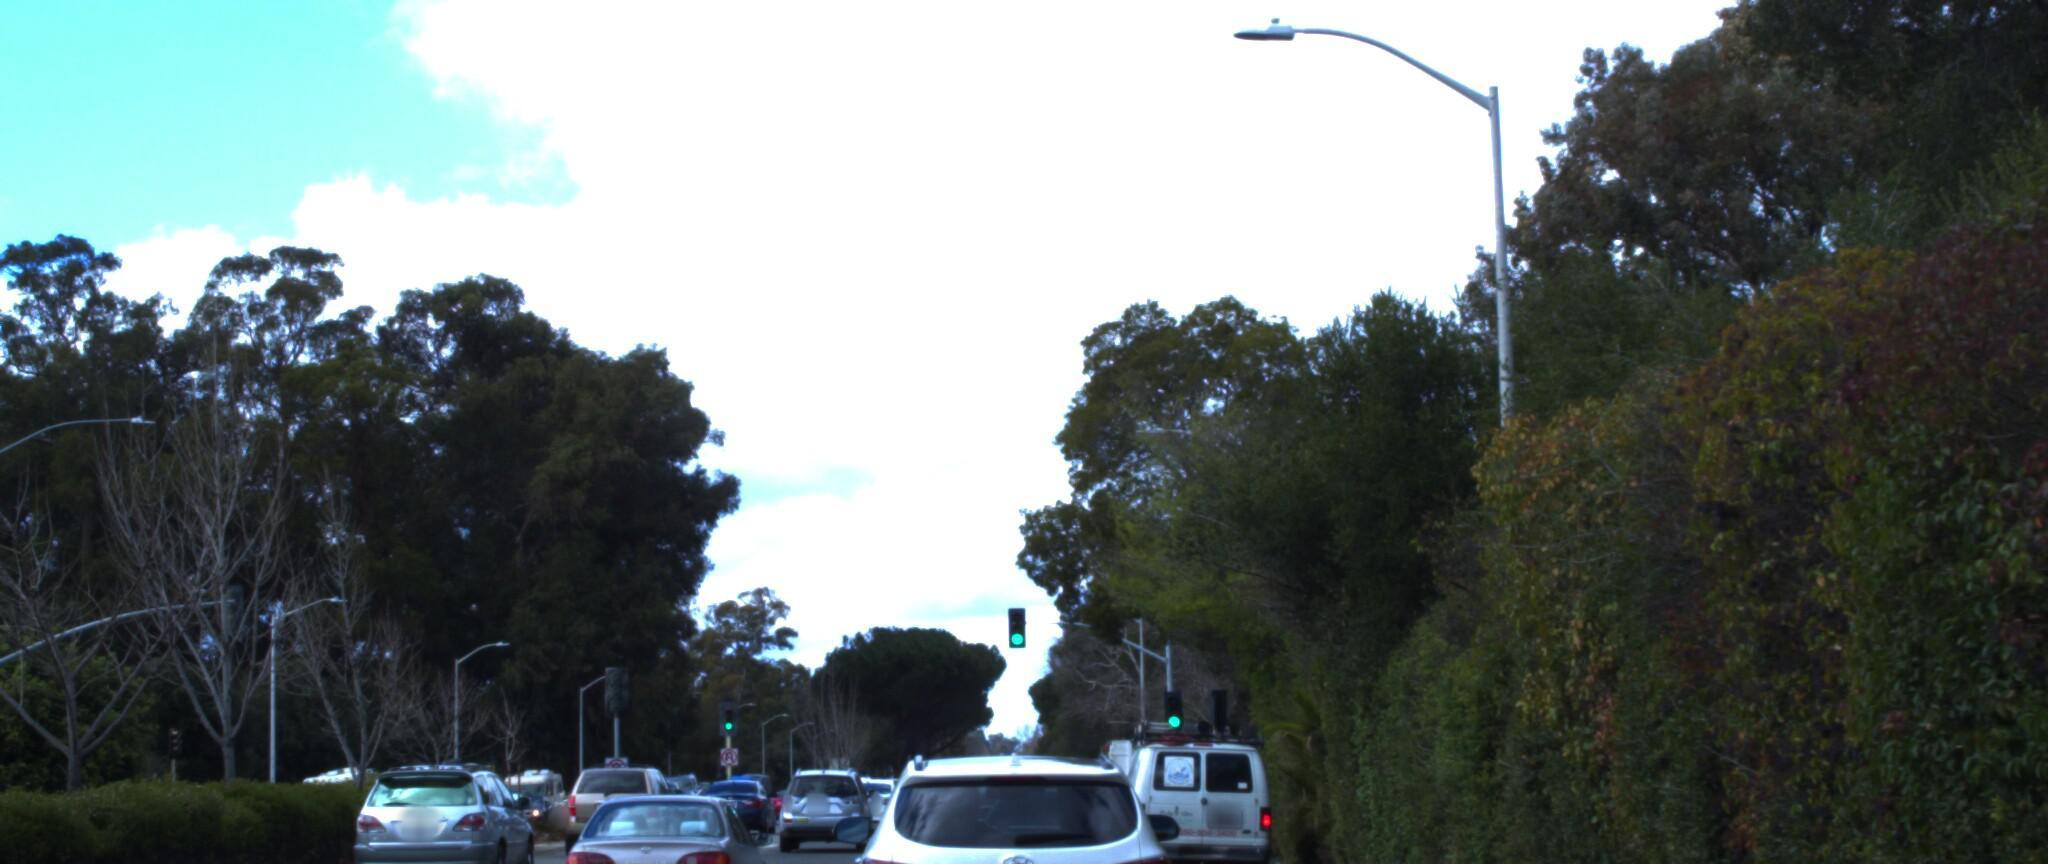car: (825, 717, 1206, 864), (1112, 690, 1298, 864), (350, 739, 554, 864), (543, 764, 784, 864), (1083, 697, 1219, 844), (562, 744, 697, 843), (777, 741, 889, 835)
